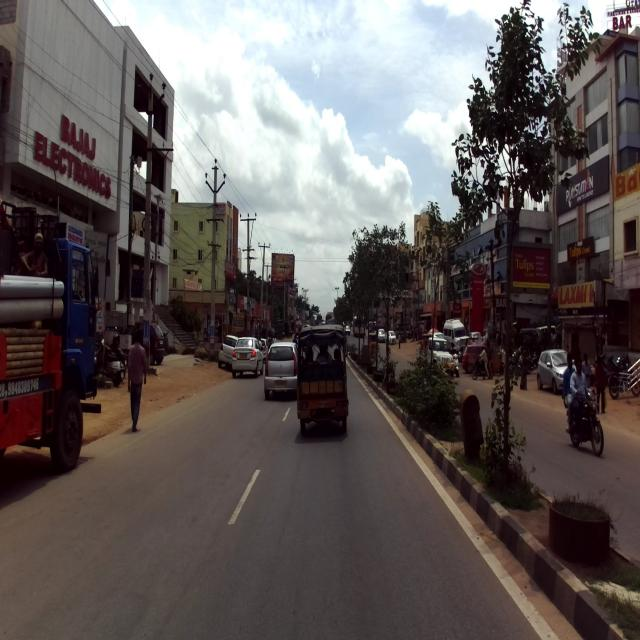Car_Maruti-Suzuki: (230, 336, 264, 377)
Car_TATA: (263, 341, 298, 400)
autorickshaw: (296, 324, 348, 434)
motorcycle_Hero: (564, 385, 603, 456)
